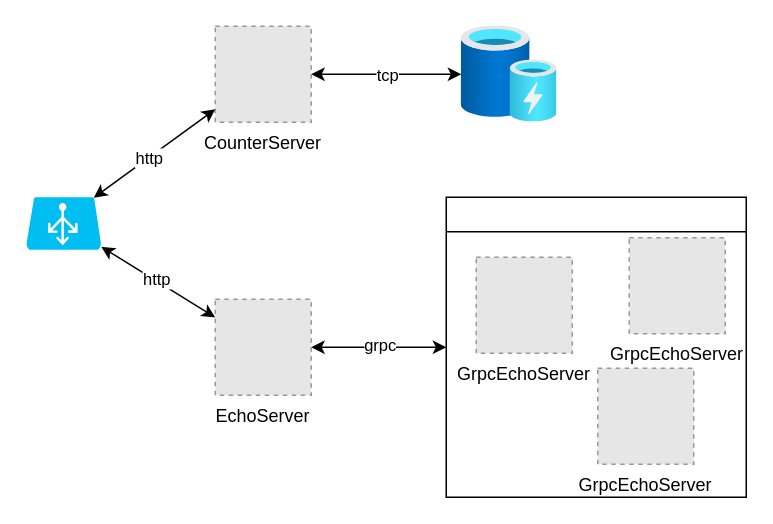
Image size: 773x524. Some labels were removed from this diagram. Grey dashed boxes stand in for pictures. Each missing label, with the box of its shape:
ReplicaSet: (445, 196, 746, 497)
Valkey: (460, 26, 556, 122)
YARP Replicas: (26, 196, 100, 249)
